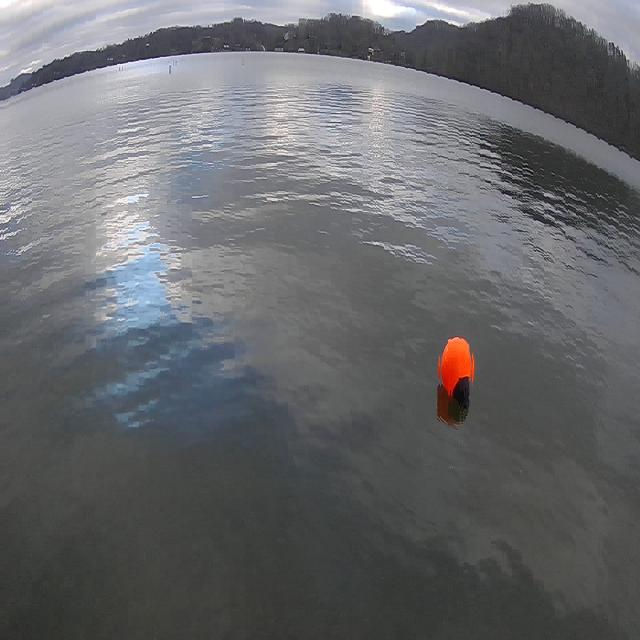Buoy: (435, 328, 482, 419)
